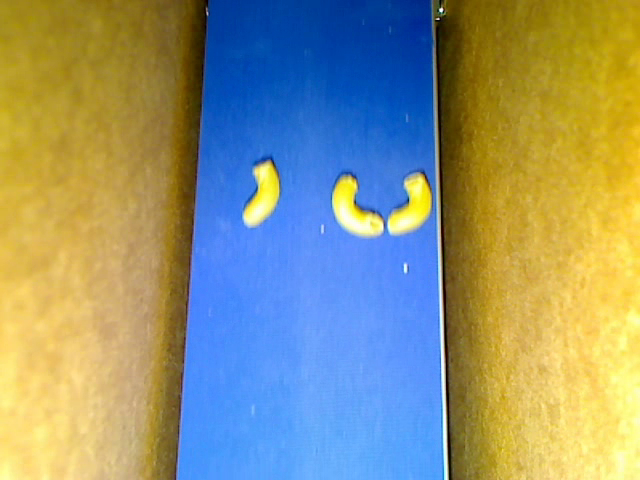elbow: (331, 173, 383, 238), (387, 171, 432, 235), (241, 157, 281, 228)
